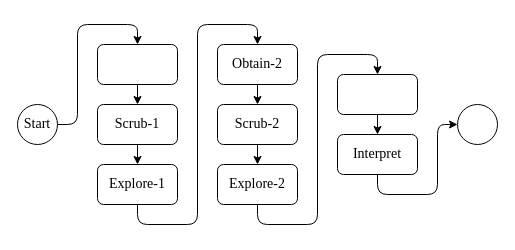
The diagram is 515 pixels wide and 250 high, and some of its shapes have lost their labels. The shapes that lost their labels are listed below. From the top down, each one's centre as x and y in pixels, then its label:
At (137,64): "Obtain-1".
At (377,94): "Model".
At (477,124): "End".
